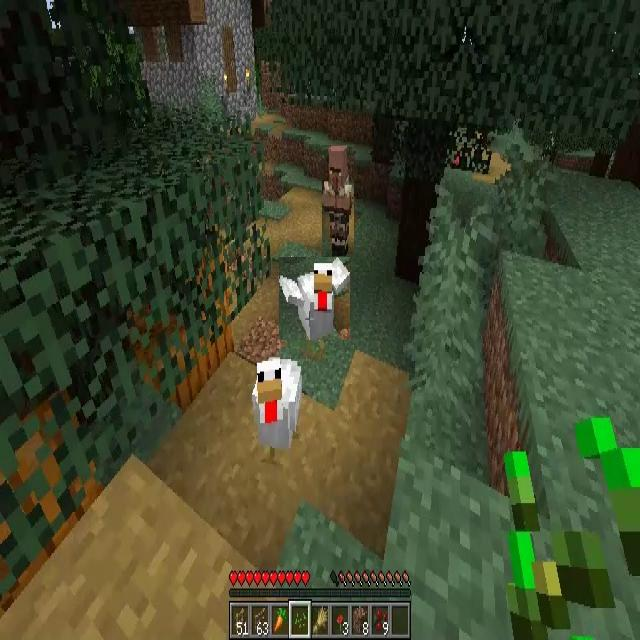duck: (279, 257, 350, 340), (253, 355, 302, 451)
people: (322, 145, 354, 256)
